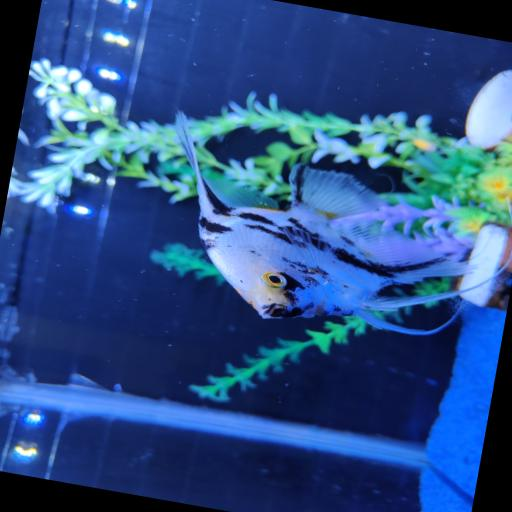Fish: (176, 112, 469, 334)
